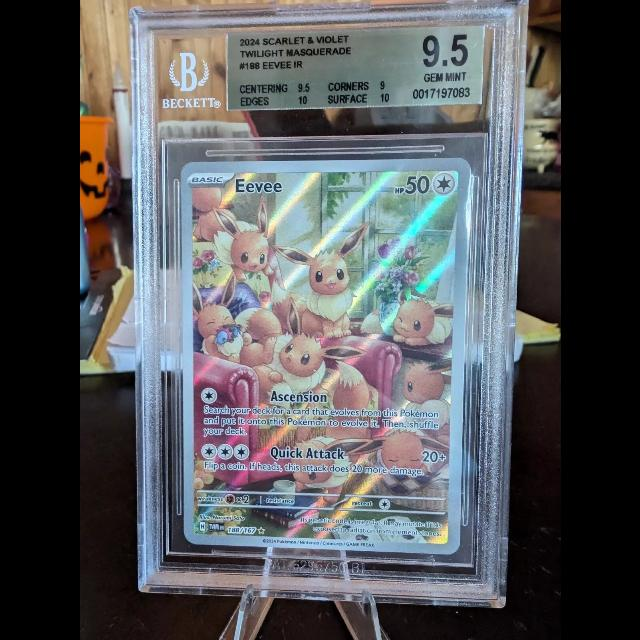bgs_label: (225, 24, 484, 112)
bgs_slab: (128, 0, 529, 609)
card: (180, 158, 471, 555)
